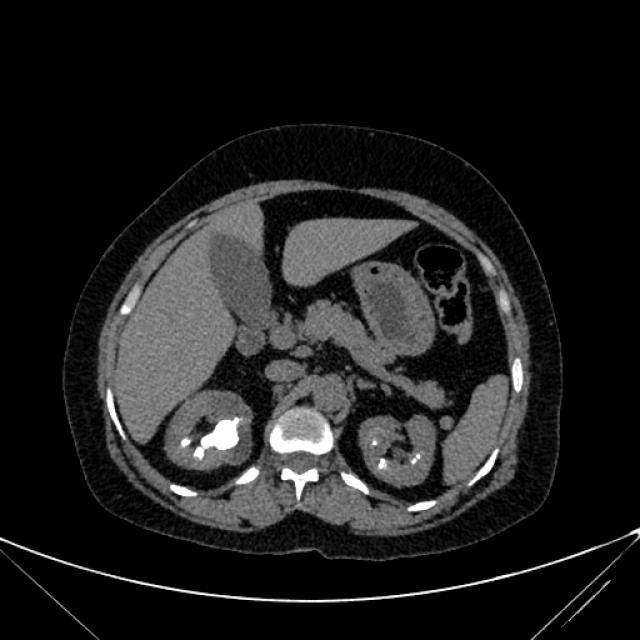kidney: (364, 417, 435, 483), (173, 406, 248, 467)
stone: (198, 422, 235, 456), (379, 459, 386, 469), (182, 438, 189, 446), (372, 440, 378, 446), (411, 459, 416, 464), (418, 454, 420, 459)
